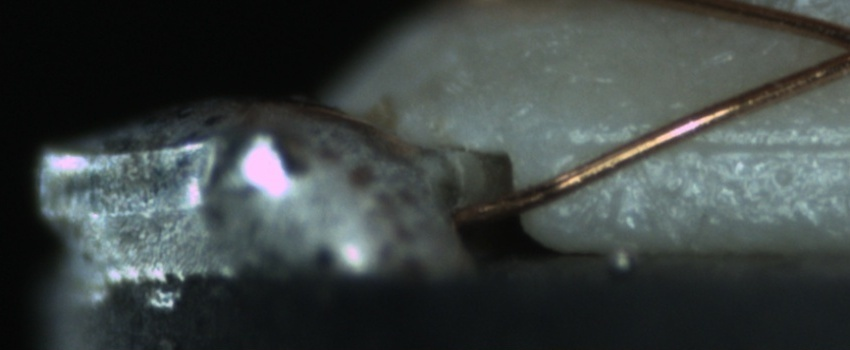CL: (827, 23, 850, 74)
DL: (565, 114, 847, 176)
